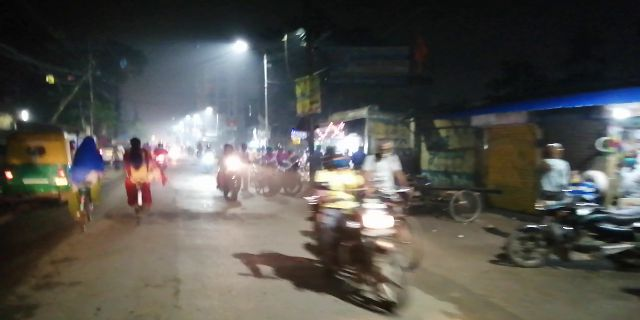Autorickshaw: (3, 123, 73, 204)
Cycle: (73, 133, 103, 235), (124, 135, 156, 226)
Motorbike: (308, 142, 412, 309), (214, 141, 245, 202)
